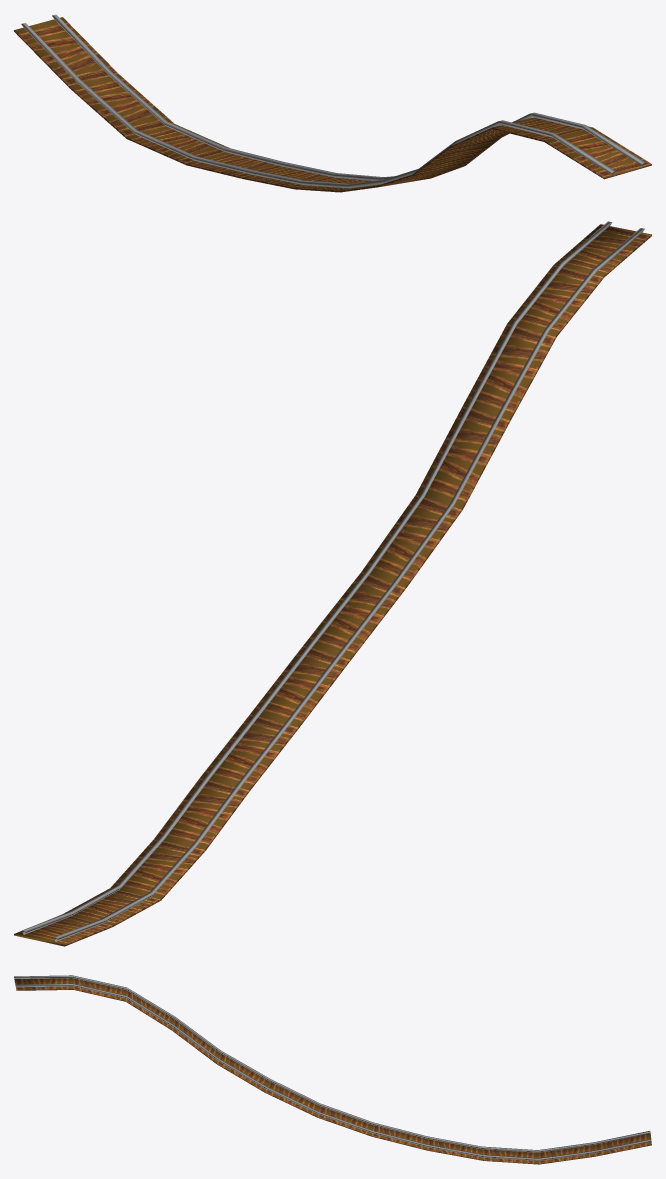
The model's file is SWORDLIGHT20_MAIN1RAILS1N EXT.fbx.
The picture shows the model from 3 angles, top to bottom: view 1: azimuth 30°, elevation 25°; view 2: azimuth 150°, elevation 25°; view 3: azimuth 270°, elevation 25°; orthographic projection. The views are drawn at different scales.
Visible parts, largest first — view 1: SWORDLIGHT20_MAIN1RAILS1N EXT; view 2: SWORDLIGHT20_MAIN1RAILS1N EXT; view 3: SWORDLIGHT20_MAIN1RAILS1N EXT.
Part boxes in pixels (<box>): SWORDLIGHT20_MAIN1RAILS1N EXT: <box>14,14,651,192</box>; SWORDLIGHT20_MAIN1RAILS1N EXT: <box>14,221,651,946</box>; SWORDLIGHT20_MAIN1RAILS1N EXT: <box>14,975,651,1164</box>.
Size of the model in its own units: 26408 by 100444 by 333275.
2 materials, 2 textured.
